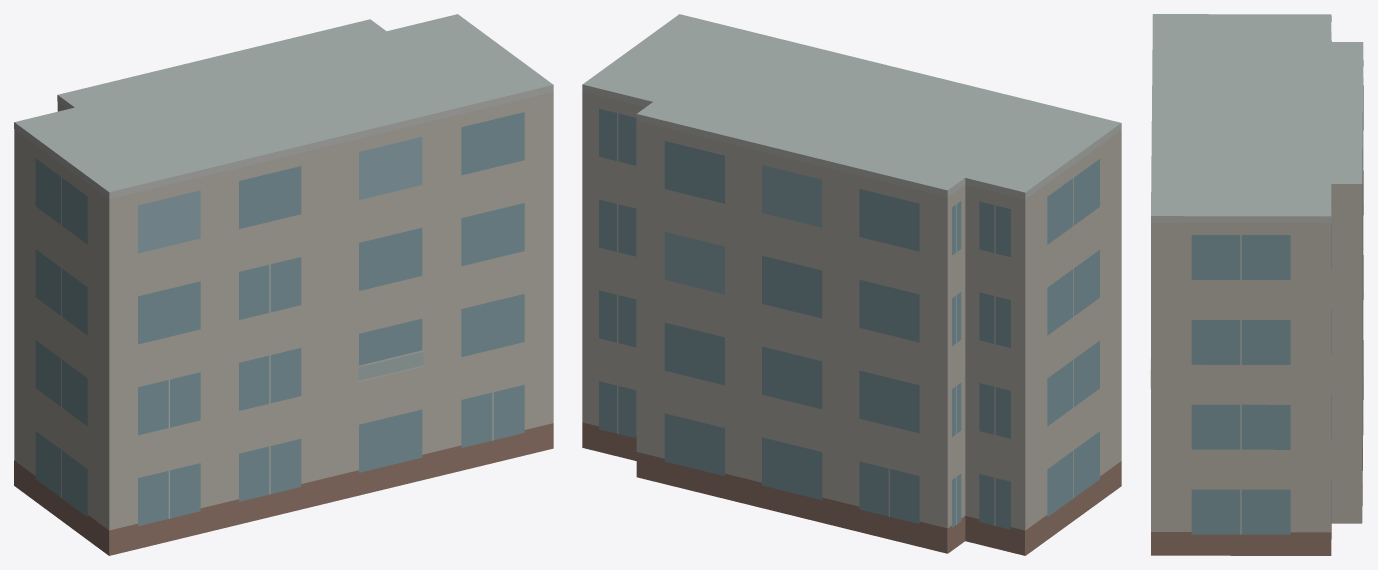
Rendered from survey-upis-33042614.glb.
3 views of the same model, side by side, from view 1: azimuth 30°, elevation 25°; view 2: azimuth 150°, elevation 25°; view 3: azimuth 270°, elevation 25° (orthographic). The views are drawn at different scales.
Parts seen in each view (by area): view 1: survey-upis-33042614.tmp; view 2: survey-upis-33042614.tmp; view 3: survey-upis-33042614.tmp.
Part boxes in pixels (x1,y1,x2,y2): survey-upis-33042614.tmp: (14,14,553,555); survey-upis-33042614.tmp: (582,14,1121,555); survey-upis-33042614.tmp: (1150,14,1363,555).
Bounding box in the file's own units: 16.37 × 12.8 × 7.29.
